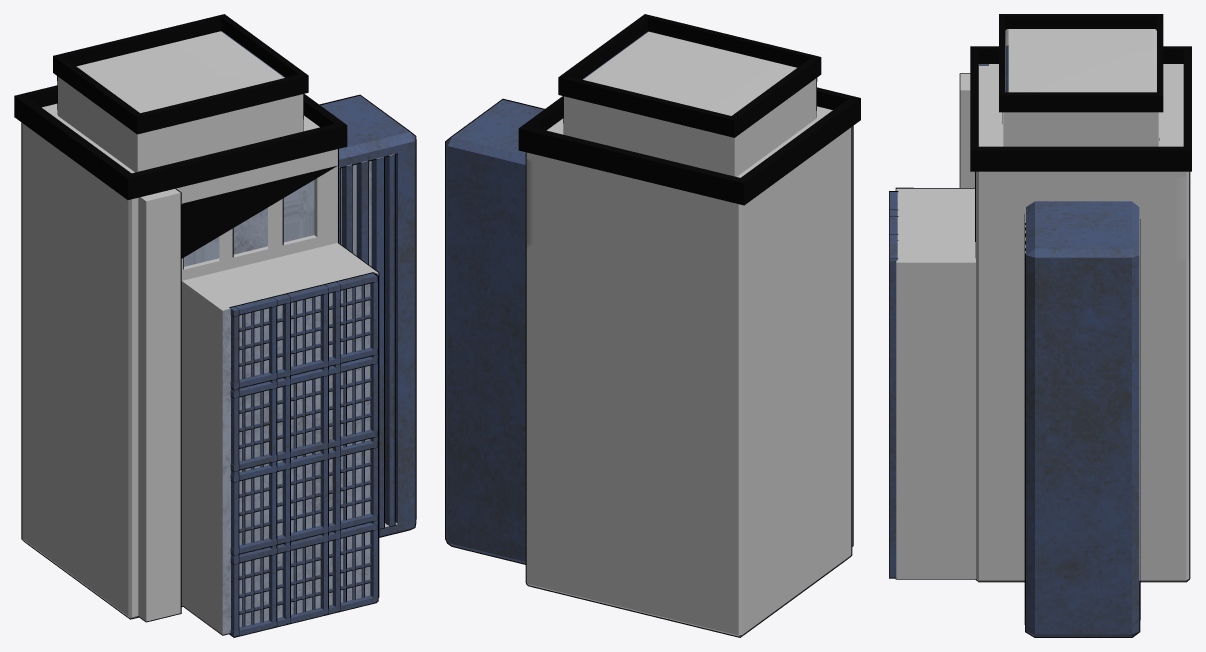
Rendered from Building1.fbx.
3 views of the same model, side by side, from view 1: azimuth 30°, elevation 25°; view 2: azimuth 150°, elevation 25°; view 3: azimuth 270°, elevation 25° (orthographic). The views are drawn at different scales.
Parts seen in each view (by area): view 1: Building1; view 2: Building1; view 3: Building1.
Part boxes in pixels (x1,y1,x2,y2): Building1: (14, 14, 416, 637); Building1: (445, 14, 860, 637); Building1: (889, 14, 1191, 637).
Bounding box in the file's own units: 363 × 536 × 303.
